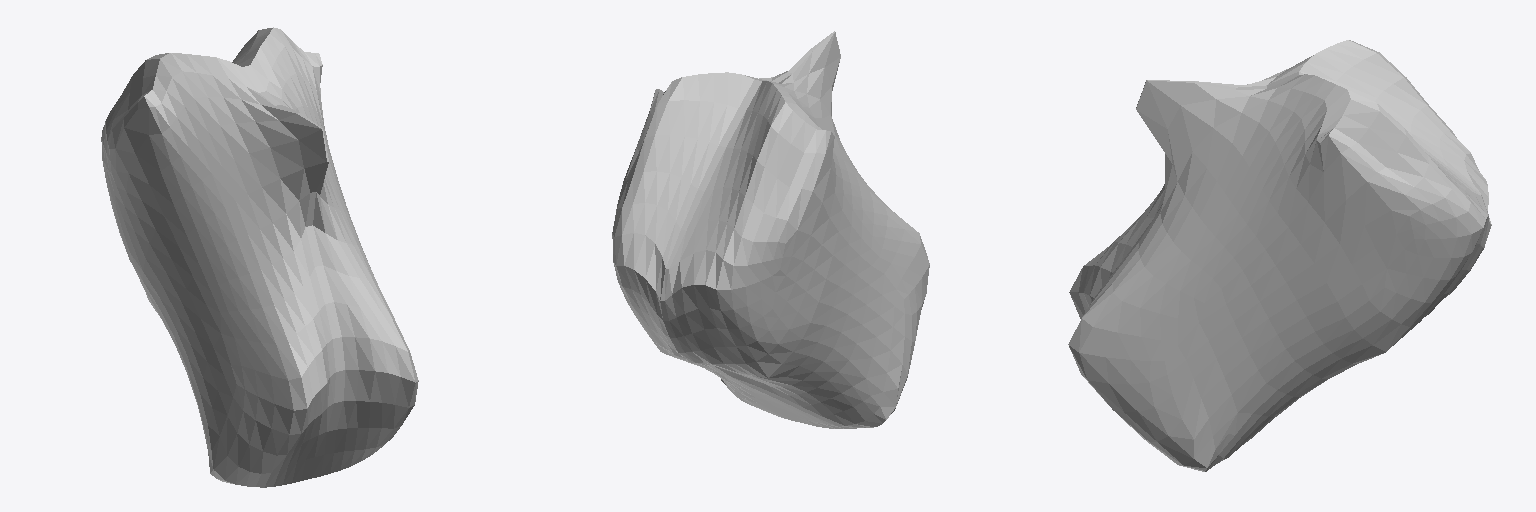
Rendered from vertabrae24.obj.
3 views of the same model, side by side, from view 1: azimuth 30°, elevation 25°; view 2: azimuth 150°, elevation 25°; view 3: azimuth 270°, elevation 25° (orthographic).
Visible parts, largest first — view 1: Cube.122_Cube.123; view 2: Cube.122_Cube.123; view 3: Cube.122_Cube.123.
Part boxes in pixels (left/top/right/bottom): Cube.122_Cube.123: left=101, top=27, right=418, bottom=487; Cube.122_Cube.123: left=612, top=31, right=929, bottom=428; Cube.122_Cube.123: left=1068, top=40, right=1491, bottom=471.
Bounding box in the file's own units: 0.0472 × 0.0979 × 0.098.